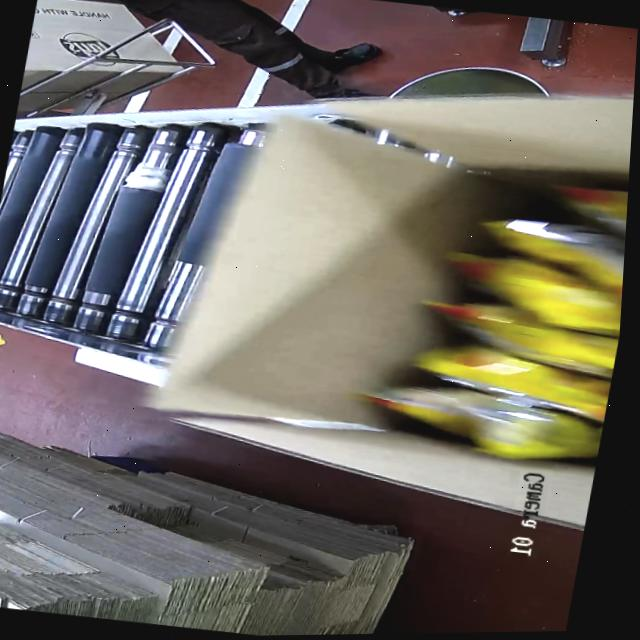SALTED: (412, 141, 631, 471)
